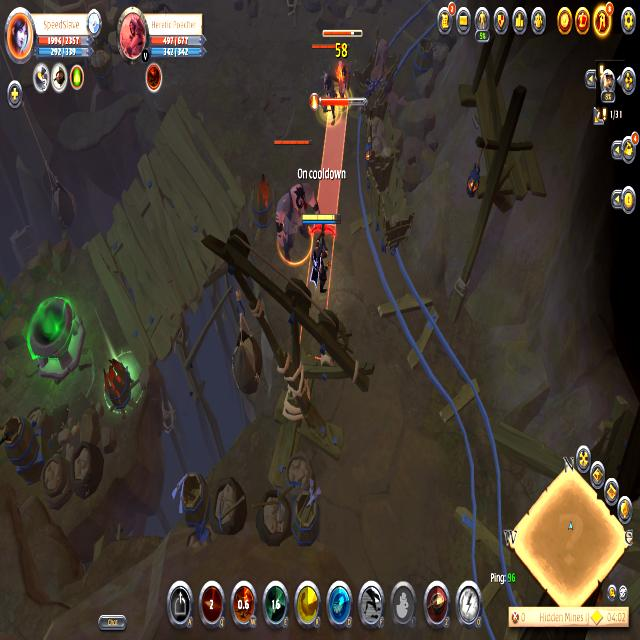ore: (272, 134, 320, 267), (322, 24, 365, 112), (310, 40, 346, 111)
red: (302, 211, 340, 304)
silver: (296, 96, 350, 361)
